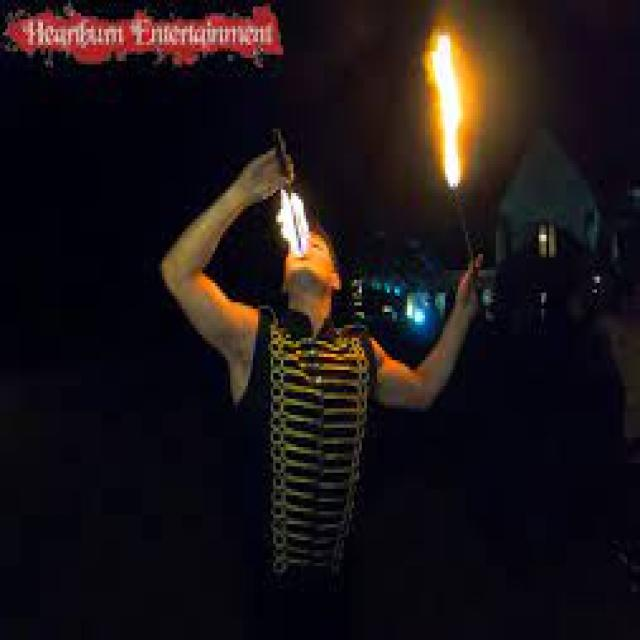fire: (432, 35, 461, 187), (276, 190, 308, 257)
